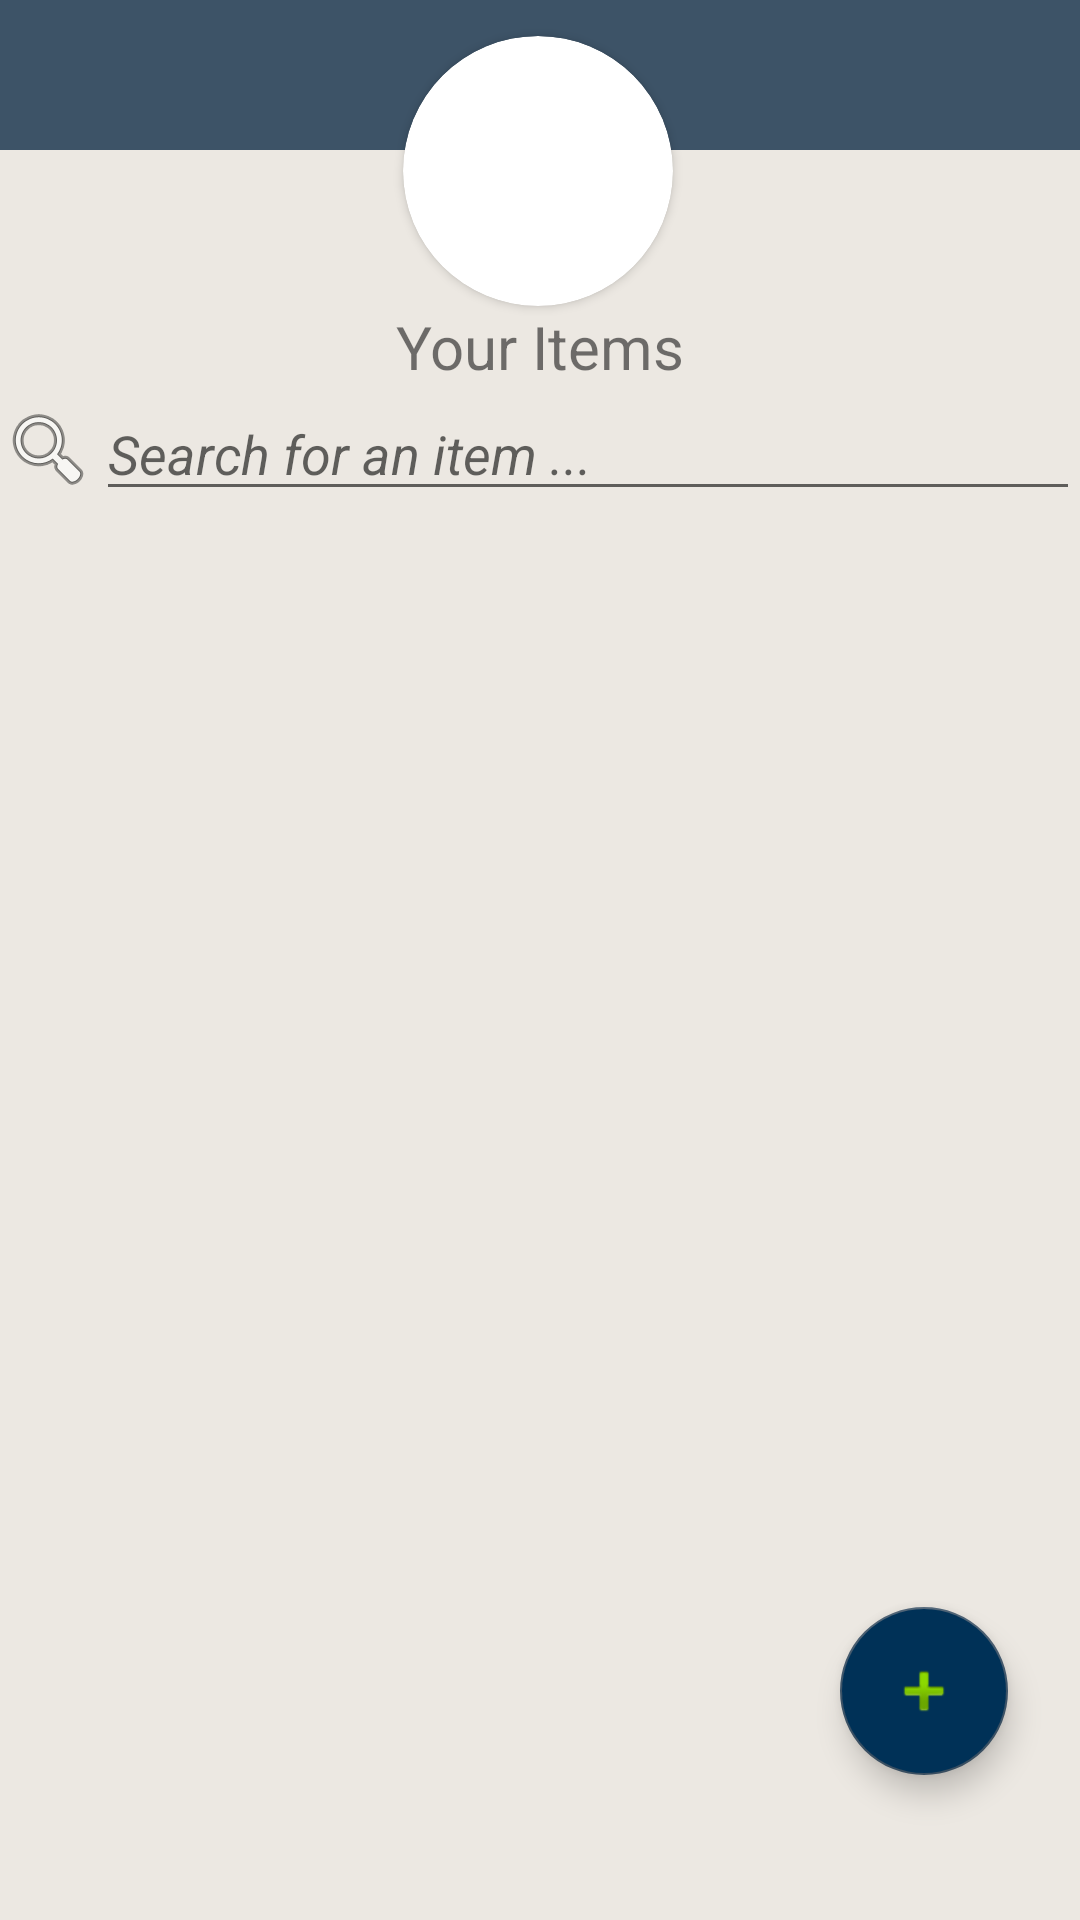

Screen size 1080px×1920px. Icon name, then its box in pixels as [x1,y1,x2,y2]:
add: [840,1607,1008,1775]
